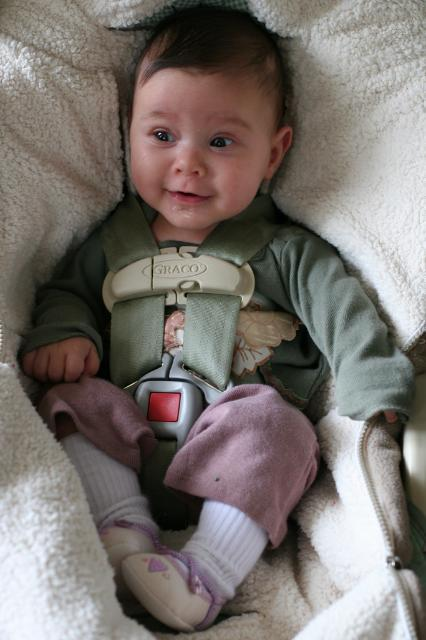SafeDriving: (200, 120, 246, 156), (141, 113, 184, 150)
Seatbelt: (96, 192, 290, 534)
